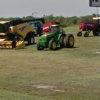Tractor: (28, 17, 79, 50)
